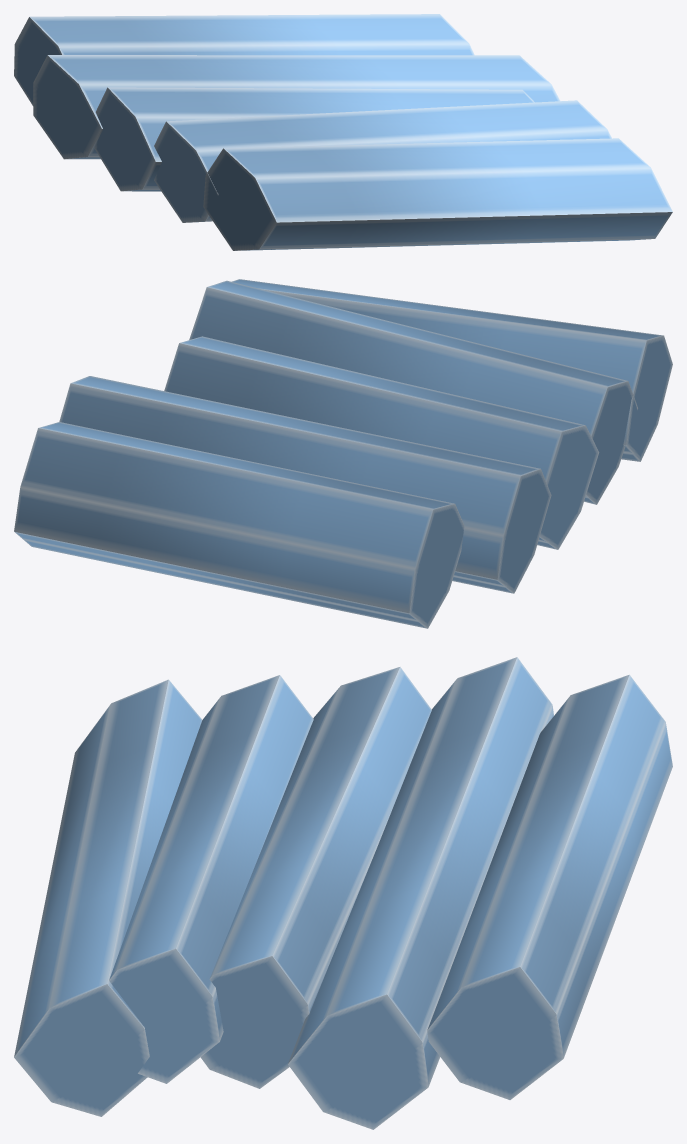
File: floor_crystal_pipes_02.fbx
The picture shows the model from 3 angles, top to bottom: view 1: azimuth 30°, elevation 25°; view 2: azimuth 150°, elevation 25°; view 3: azimuth 270°, elevation 25°; orthographic projection. The views are drawn at different scales.
Parts seen in each view (by area): view 1: floor_crystal_pipes_02; view 2: floor_crystal_pipes_02; view 3: floor_crystal_pipes_02.
Part boxes in pixels (x1,y1,x2,y2): floor_crystal_pipes_02: [14, 14, 672, 250]; floor_crystal_pipes_02: [14, 279, 672, 628]; floor_crystal_pipes_02: [14, 657, 672, 1129].
Bounding box in the file's own units: 1.51 × 0.5524 × 1.58.
Materials: 1 (1 with a texture image).
